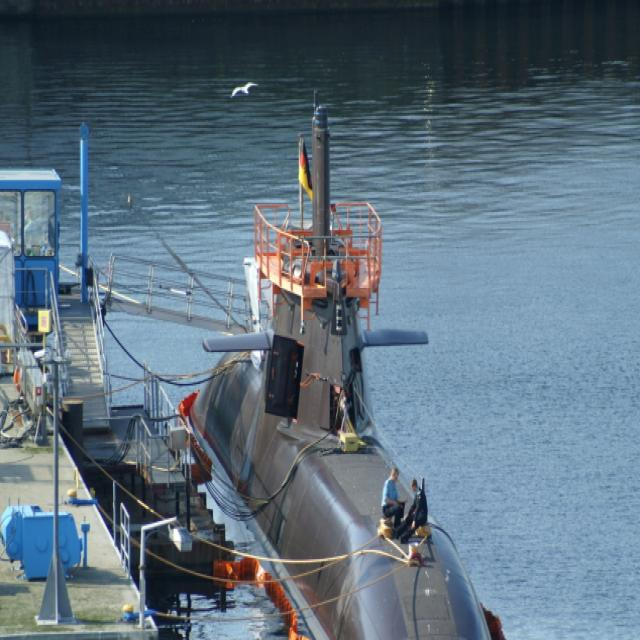submarine: (189, 103, 514, 640)
